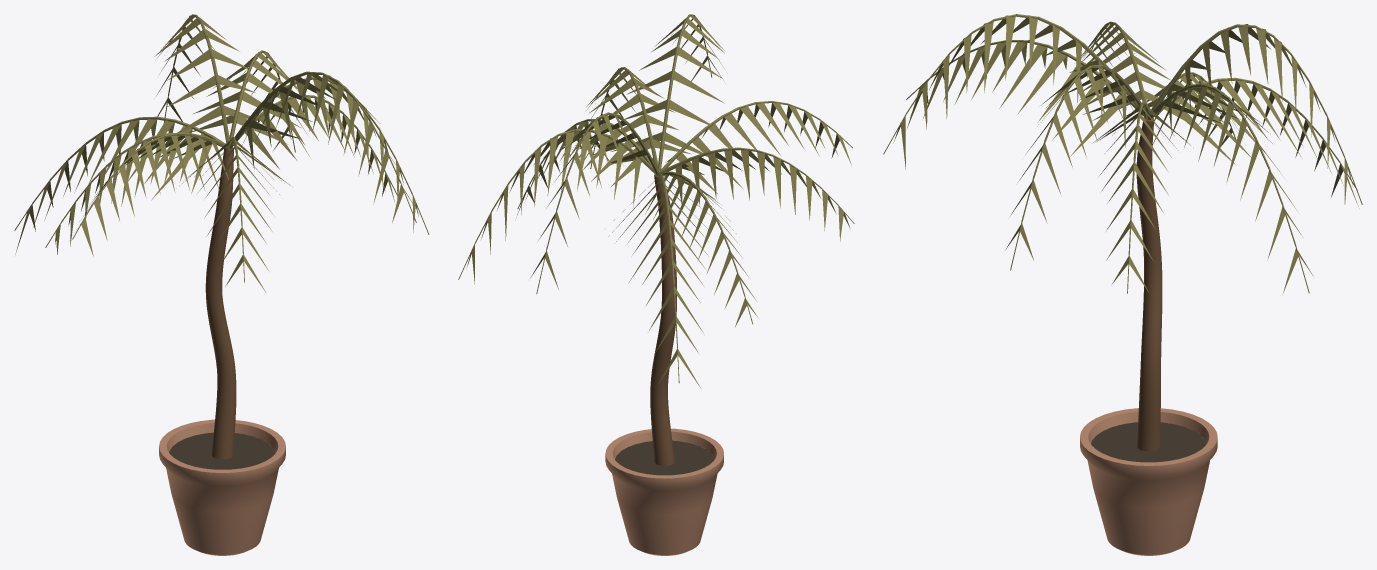
Rendered from arr_palma.fbx.
The picture shows the model from 3 angles, left to right: view 1: azimuth 30°, elevation 25°; view 2: azimuth 150°, elevation 25°; view 3: azimuth 270°, elevation 25°; orthographic projection. The views are drawn at different scales.
Parts seen in each view (by area): view 1: arr_palma_foglia, arr_palma_vaso, arr_palma_noce, arr_palma_terra; view 2: arr_palma_foglia, arr_palma_vaso, arr_palma_noce, arr_palma_terra; view 3: arr_palma_foglia, arr_palma_vaso, arr_palma_noce, arr_palma_terra.
Boxes of the visible parts, x1,y1,x2,y2 form: arr_palma_foglia: (14, 14, 429, 292); arr_palma_vaso: (159, 419, 285, 555); arr_palma_noce: (205, 147, 236, 459); arr_palma_terra: (169, 432, 275, 469); arr_palma_foglia: (458, 14, 854, 387); arr_palma_vaso: (605, 428, 723, 555); arr_palma_noce: (650, 174, 676, 465); arr_palma_terra: (615, 440, 714, 475); arr_palma_foglia: (883, 14, 1362, 294); arr_palma_vaso: (1080, 408, 1217, 555); arr_palma_noce: (1136, 117, 1162, 451); arr_palma_terra: (1091, 422, 1206, 462).
Bounding box in the file's own units: 2.07 × 2.89 × 2.3.
